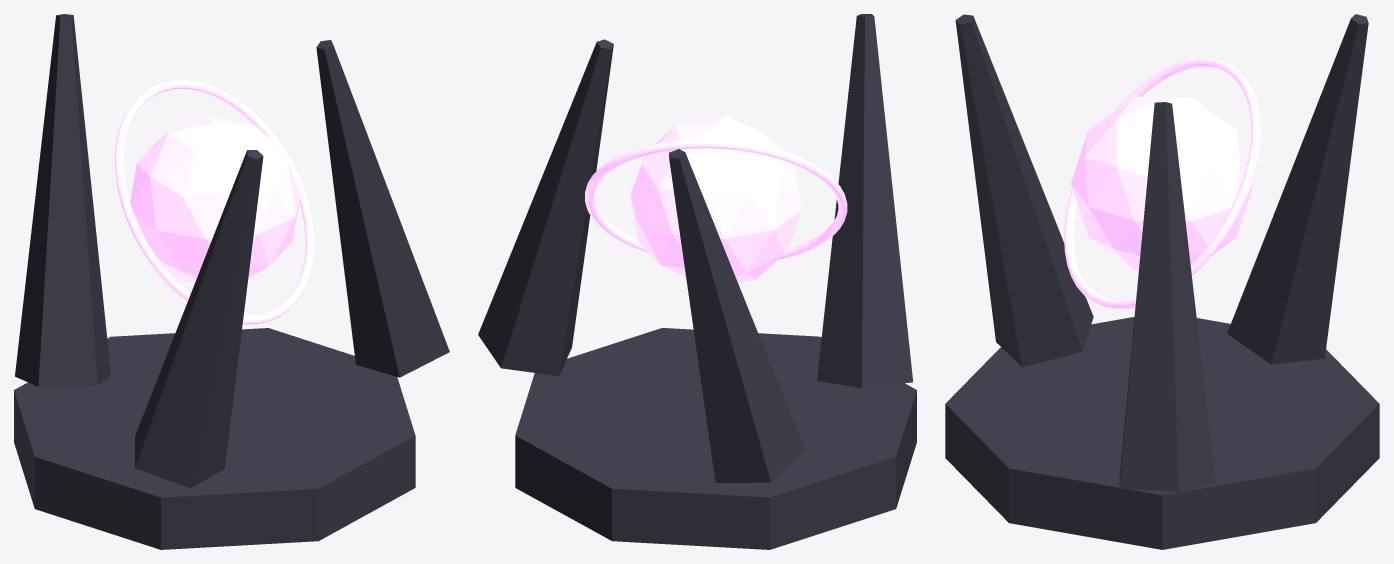
File: void_rift_anchor.glb
The picture shows the model from 3 angles, left to right: view 1: azimuth 30°, elevation 25°; view 2: azimuth 150°, elevation 25°; view 3: azimuth 270°, elevation 25°; orthographic projection. The views are drawn at different scales.
Visible parts, largest first — view 1: Cylinder, ObsidianMonolith_1, ObsidianMonolith_2, ObsidianMonolith_0, DreamCore, Torus; view 2: Cylinder, ObsidianMonolith_2, ObsidianMonolith_0, ObsidianMonolith_1, DreamCore, Torus; view 3: Cylinder, ObsidianMonolith_0, ObsidianMonolith_2, ObsidianMonolith_1, DreamCore, Torus.
Part boxes in pixels (bbox=[...]): Cylinder: bbox=[14, 328, 415, 549]; ObsidianMonolith_1: bbox=[15, 14, 110, 386]; ObsidianMonolith_2: bbox=[135, 150, 263, 488]; ObsidianMonolith_0: bbox=[316, 40, 449, 377]; DreamCore: bbox=[130, 115, 300, 283]; Torus: bbox=[115, 80, 314, 324]; Cylinder: bbox=[515, 328, 916, 549]; ObsidianMonolith_2: bbox=[817, 14, 913, 387]; ObsidianMonolith_0: bbox=[478, 39, 613, 375]; ObsidianMonolith_1: bbox=[669, 149, 805, 482]; DreamCore: bbox=[630, 115, 801, 282]; Torus: bbox=[585, 139, 847, 259]; Cylinder: bbox=[945, 317, 1379, 549]; ObsidianMonolith_0: bbox=[1119, 102, 1215, 491]; ObsidianMonolith_2: bbox=[955, 14, 1093, 367]; ObsidianMonolith_1: bbox=[1227, 14, 1368, 364]; DreamCore: bbox=[1071, 97, 1253, 270]; Torus: bbox=[1064, 58, 1260, 309].
Bounding box in the file's own units: 2.05 × 1.89 × 1.8.
